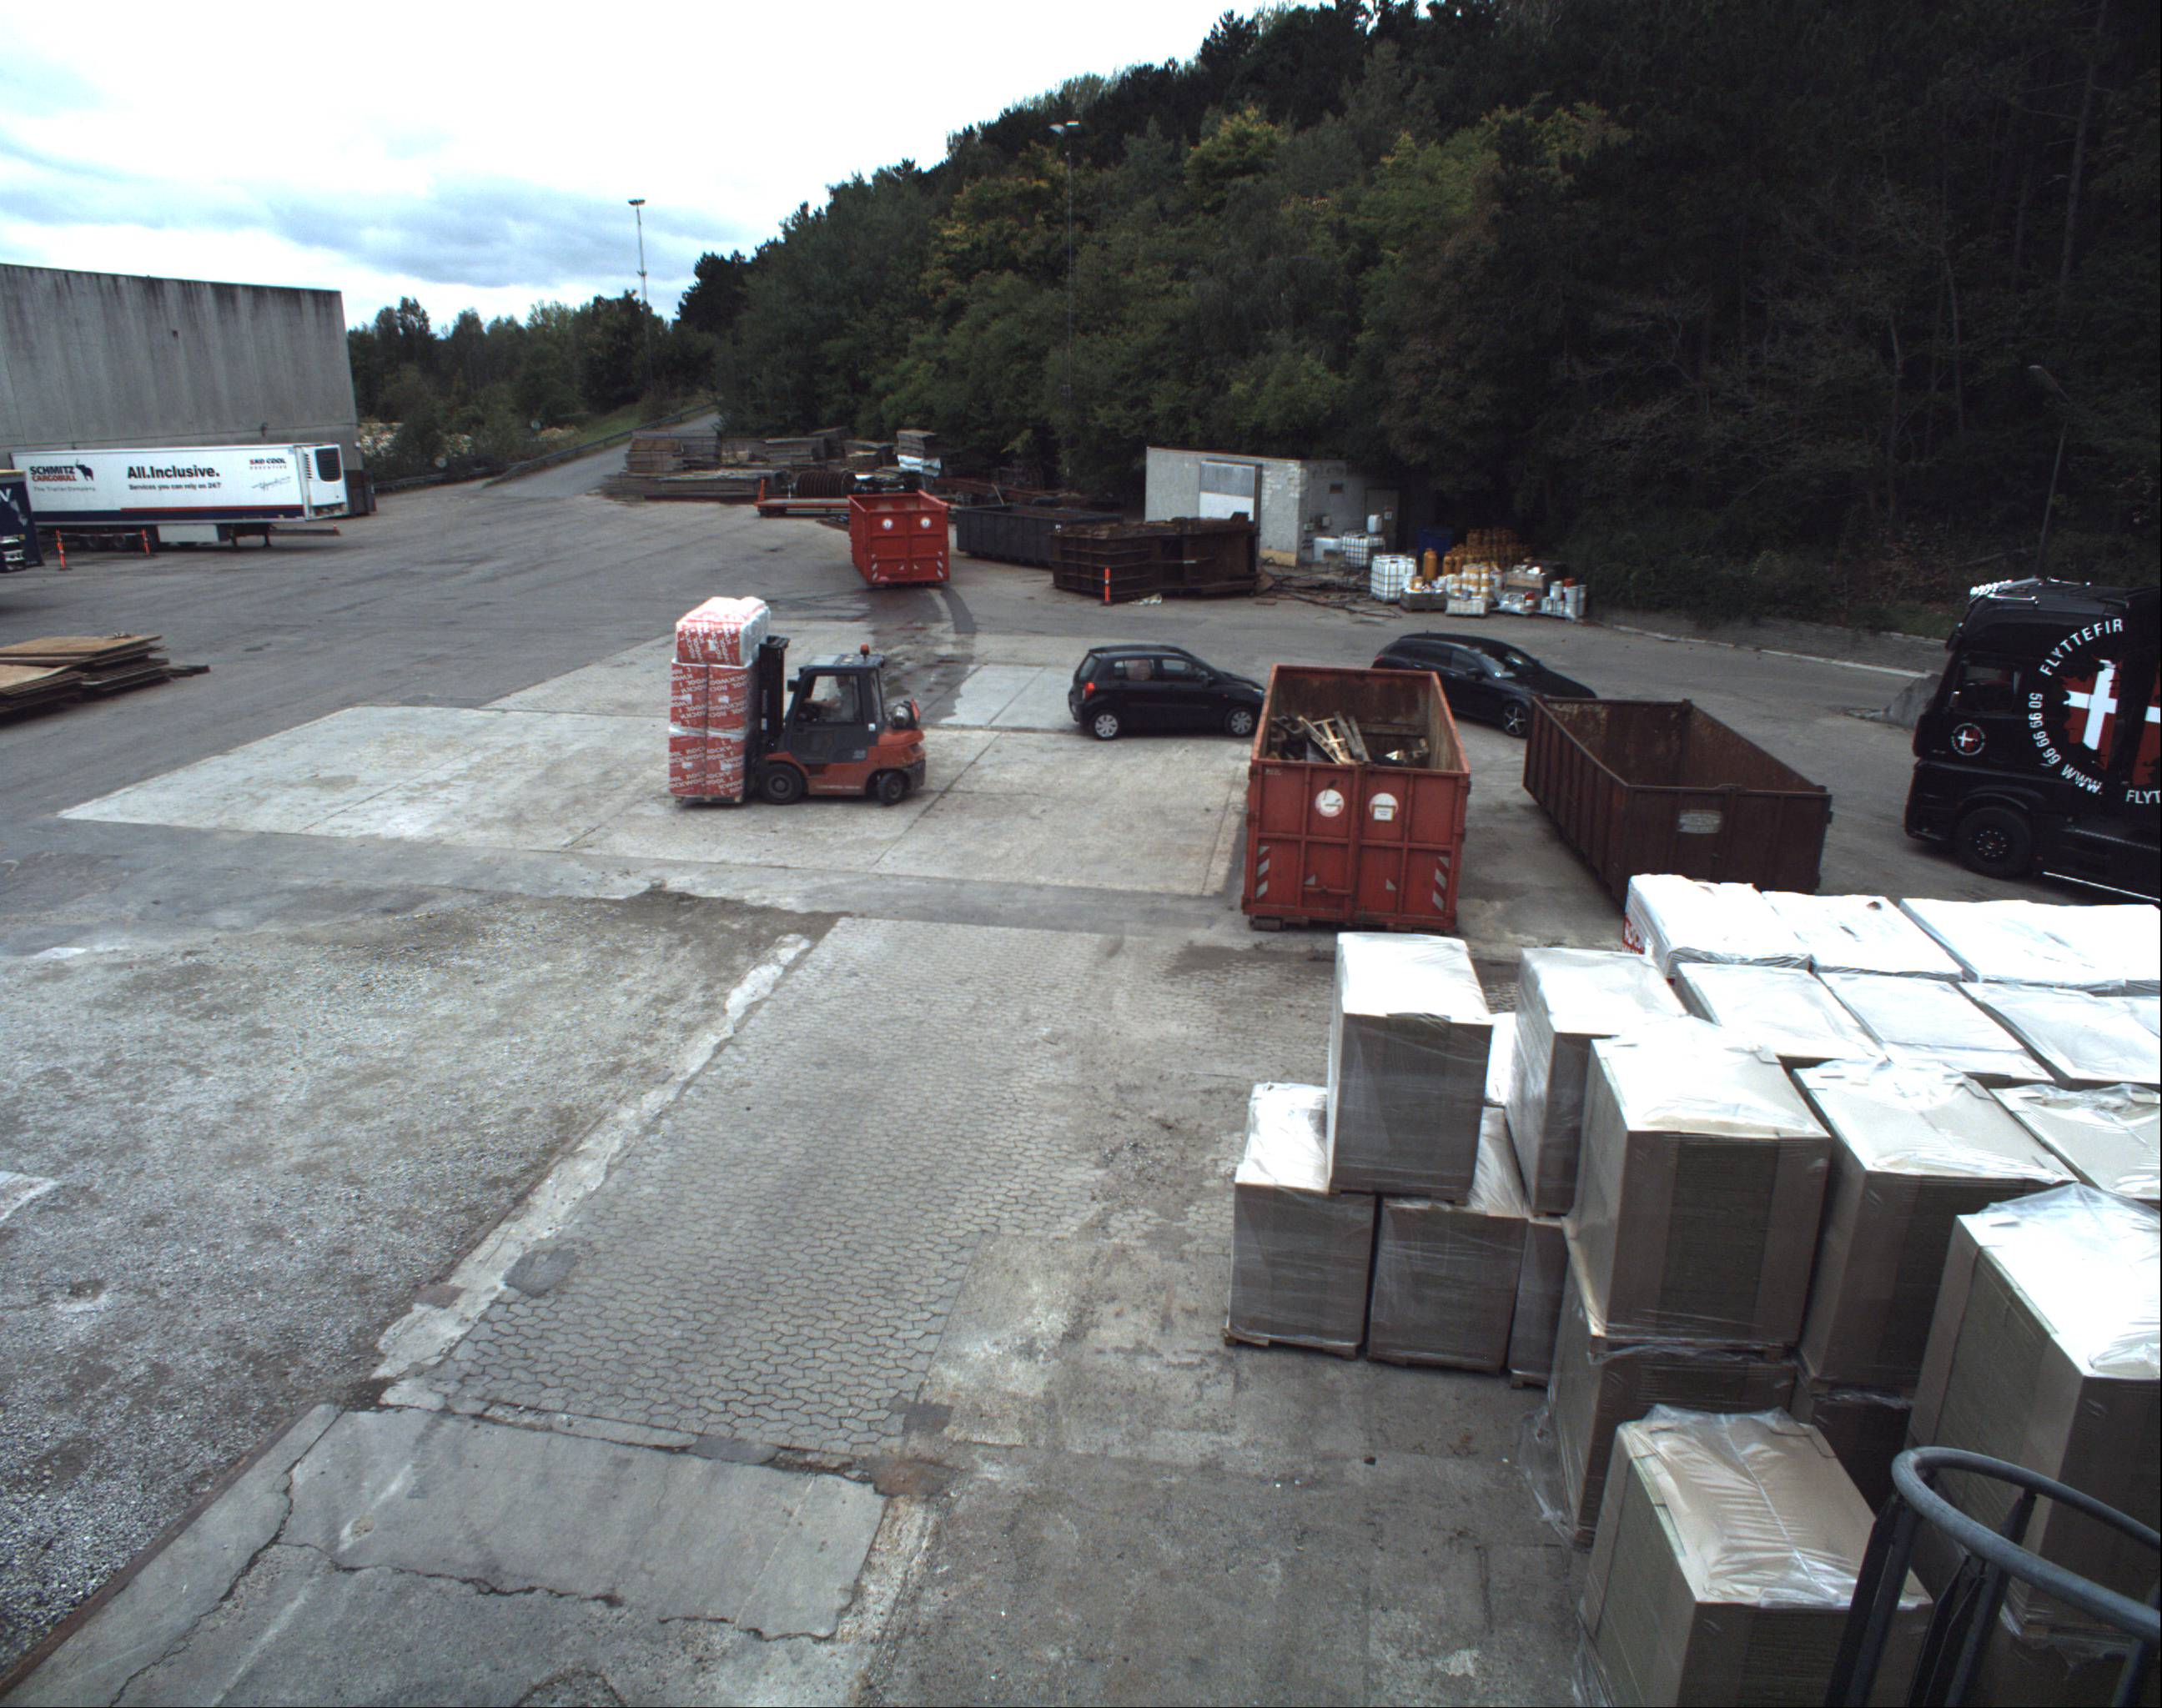rockwool_batts: (662, 576, 767, 799)
